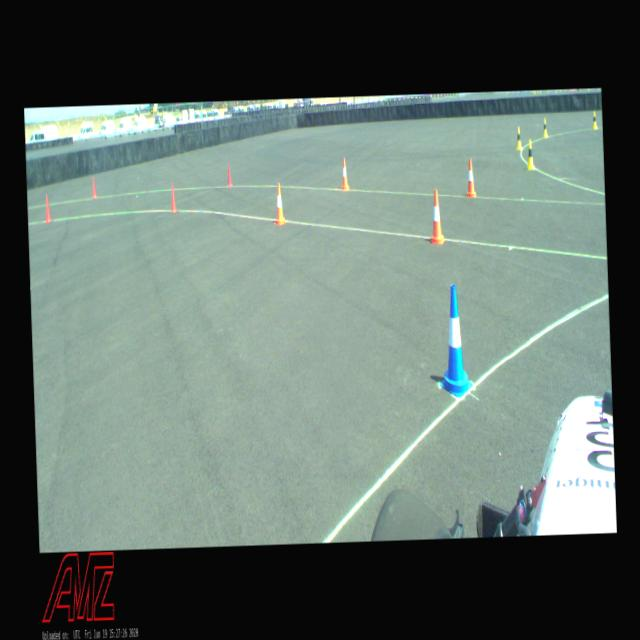blue_cone: (437, 284, 472, 396)
orange_cone: (428, 190, 444, 244), (464, 158, 476, 198), (274, 182, 284, 224), (340, 157, 350, 190)
unknown_cone: (168, 182, 177, 212), (44, 194, 52, 222), (225, 163, 232, 187), (90, 176, 97, 198)
yellow_cone: (526, 138, 534, 170), (515, 126, 522, 150), (542, 117, 548, 137), (591, 110, 597, 128)
